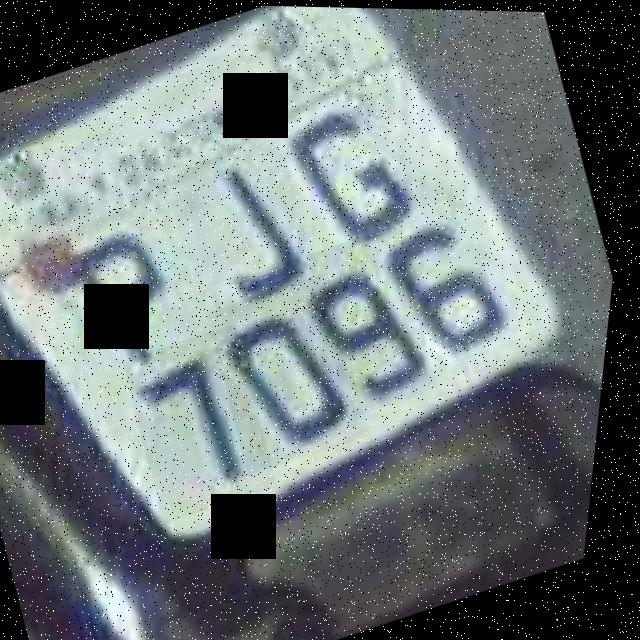0: (200, 269, 393, 476)
6: (359, 181, 550, 378)
7: (117, 321, 301, 525)
9: (275, 221, 460, 426)
G: (266, 79, 431, 254)
J: (169, 131, 344, 329)
P: (30, 204, 211, 393)
